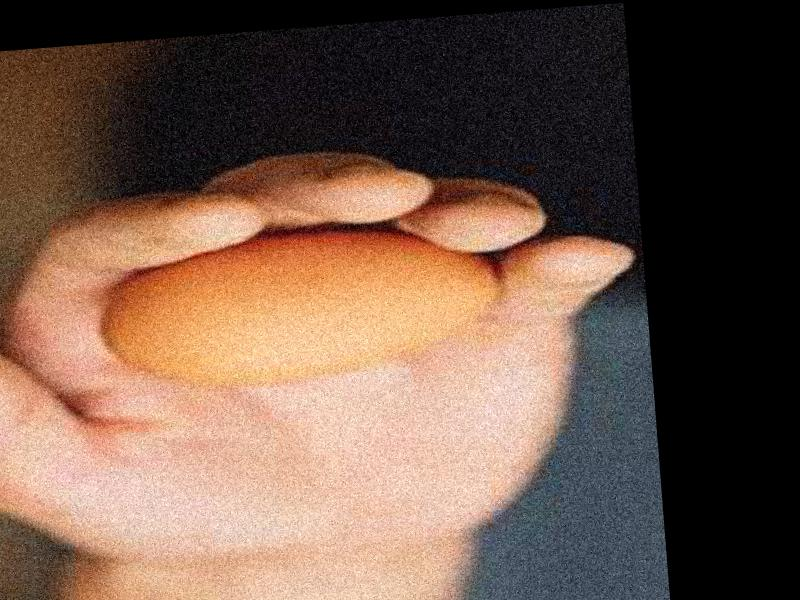Eggs: (99, 222, 507, 394)
